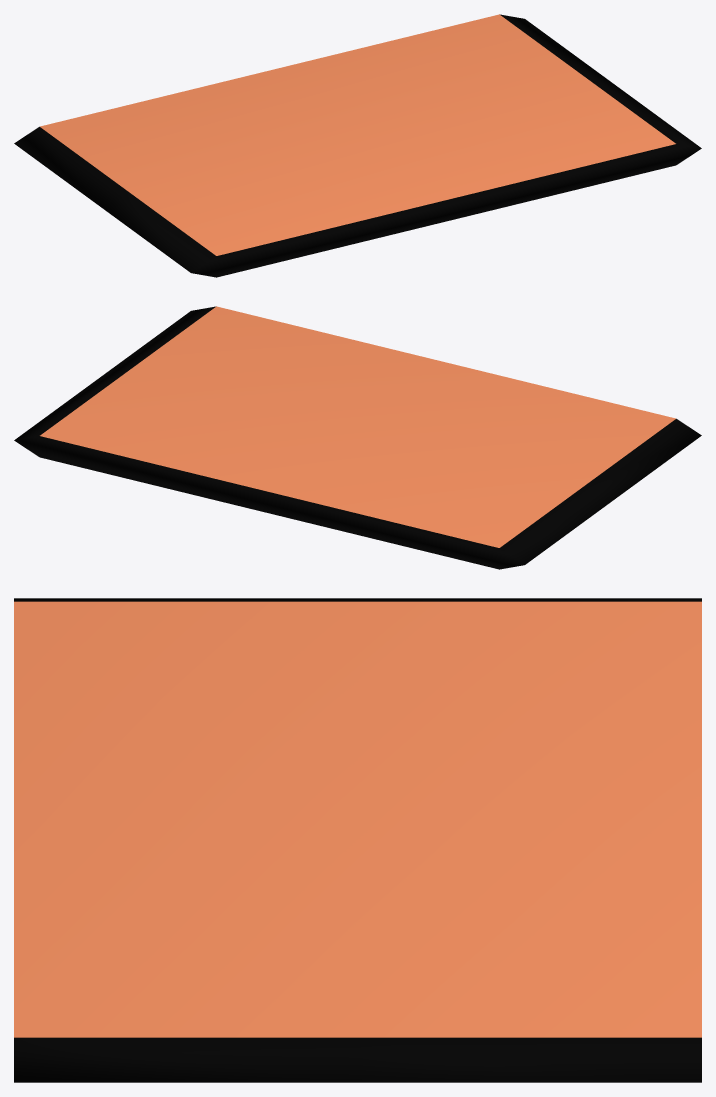
The picture shows the model from 3 angles, top to bottom: view 1: azimuth 30°, elevation 25°; view 2: azimuth 150°, elevation 25°; view 3: azimuth 270°, elevation 25°; orthographic projection. The views are drawn at different scales.
Parts seen in each view (by area): view 1: Mat; view 2: Mat; view 3: Mat.
Boxes of the visible parts, left/top/right/bottom form: Mat: left=14, top=14, right=701, bottom=277; Mat: left=14, top=306, right=701, bottom=569; Mat: left=14, top=598, right=701, bottom=1082.
Size of the model in its own units: 1000 by 40 by 600.
